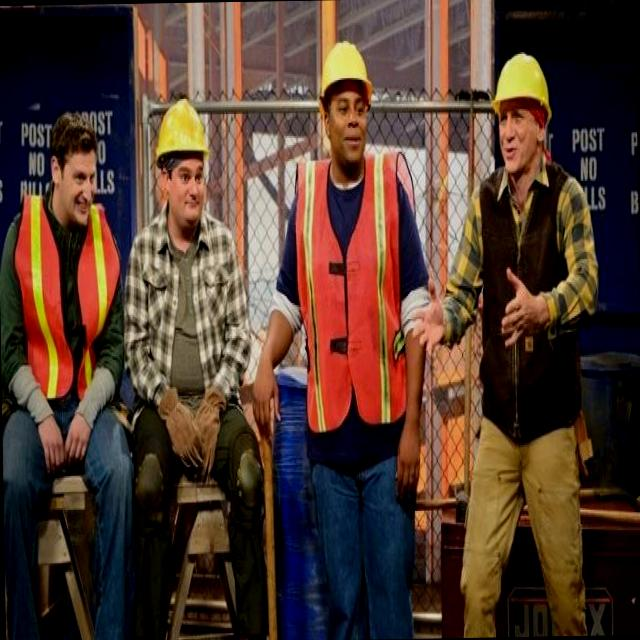helmet: (150, 92, 211, 168), (317, 34, 374, 110), (490, 49, 554, 114)
no-goggles: (490, 104, 553, 141), (321, 90, 376, 131), (45, 156, 107, 192), (152, 156, 210, 194)
no-helmet: (44, 110, 104, 163)
no-vest: (468, 168, 590, 449), (129, 213, 251, 427)
vest: (290, 153, 416, 452), (15, 194, 120, 406)
